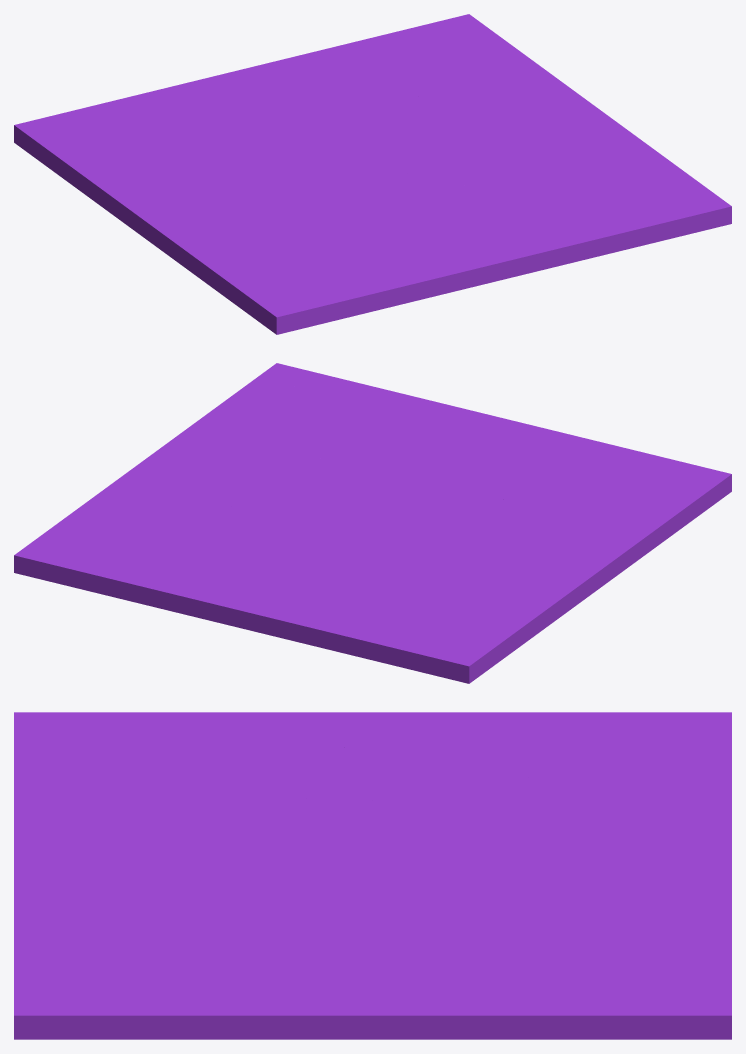
The model's file is Platform_49_chunks.fbx.
3 views of the same model, one above another, from view 1: azimuth 30°, elevation 25°; view 2: azimuth 150°, elevation 25°; view 3: azimuth 270°, elevation 25° (orthographic). The views are drawn at different scales.
Parts seen in each view (by area): view 1: Platform_49_1, Platform_49_8, Platform_49_7, Platform_49_4, Platform_49_11, Platform_49_9, Platform_49_17, Platform_49_2, Platform_49_5, Platform_49_14, Platform_49_18, Platform_49_15 (+6 smaller); view 2: Platform_49_8, Platform_49_7, Platform_49_1, Platform_49_4, Platform_49_11, Platform_49_9, Platform_49_17, Platform_49_2, Platform_49_5, Platform_49_14, Platform_49_18, Platform_49_12 (+6 smaller); view 3: Platform_49_8, Platform_49_7, Platform_49_1, Platform_49_4, Platform_49_17, Platform_49_9, Platform_49_11, Platform_49_15, Platform_49_2, Platform_49_5, Platform_49_18, Platform_49_14 (+6 smaller).
Part boxes in pixels (x1=…): Platform_49_1: x1=222, y1=221, x2=486, y2=334; Platform_49_8: x1=205, y1=14, x2=544, y2=108; Platform_49_7: x1=14, y1=78, x2=301, y2=163; Platform_49_4: x1=430, y1=183, x2=689, y2=284; Platform_49_11: x1=43, y1=147, x2=218, y2=252; Platform_49_9: x1=285, y1=81, x2=524, y2=165; Platform_49_17: x1=492, y1=70, x2=640, y2=151; Platform_49_2: x1=242, y1=159, x2=433, y2=222; Platform_49_5: x1=394, y1=100, x2=505, y2=201; Platform_49_14: x1=175, y1=206, x2=302, y2=295; Platform_49_18: x1=541, y1=150, x2=695, y2=219; Platform_49_15: x1=598, y1=140, x2=731, y2=233; Platform_49_8: x1=14, y1=499, x2=296, y2=638; Platform_49_7: x1=279, y1=549, x2=499, y2=683; Platform_49_1: x1=459, y1=423, x2=731, y2=529; Platform_49_4: x1=320, y1=374, x2=521, y2=475; Platform_49_11: x1=460, y1=548, x2=630, y2=662; Platform_49_9: x1=124, y1=501, x2=407, y2=561; Platform_49_17: x1=90, y1=429, x2=246, y2=503; Platform_49_2: x1=379, y1=464, x2=507, y2=565; Platform_49_5: x1=179, y1=467, x2=418, y2=511; Platform_49_14: x1=493, y1=517, x2=678, y2=550; Platform_49_18: x1=228, y1=371, x2=333, y2=451; Platform_49_12: x1=425, y1=522, x2=534, y2=601; Platform_49_8: x1=505, y1=839, x2=731, y2=1039; Platform_49_7: x1=446, y1=712, x2=731, y2=862; Platform_49_1: x1=14, y1=712, x2=247, y2=855; Platform_49_4: x1=14, y1=852, x2=232, y2=986; Platform_49_17: x1=262, y1=951, x2=534, y2=1039; Platform_49_9: x1=382, y1=823, x2=540, y2=997; Platform_49_11: x1=291, y1=712, x2=646, y2=760; Platform_49_15: x1=14, y1=987, x2=279, y2=1039; Platform_49_2: x1=173, y1=798, x2=481, y2=857; Platform_49_5: x1=232, y1=867, x2=474, y2=967; Platform_49_18: x1=14, y1=933, x2=281, y2=991; Platform_49_14: x1=184, y1=712, x2=361, y2=798.
Bounding box in the file's own units: 810 × 29.87 × 810.
